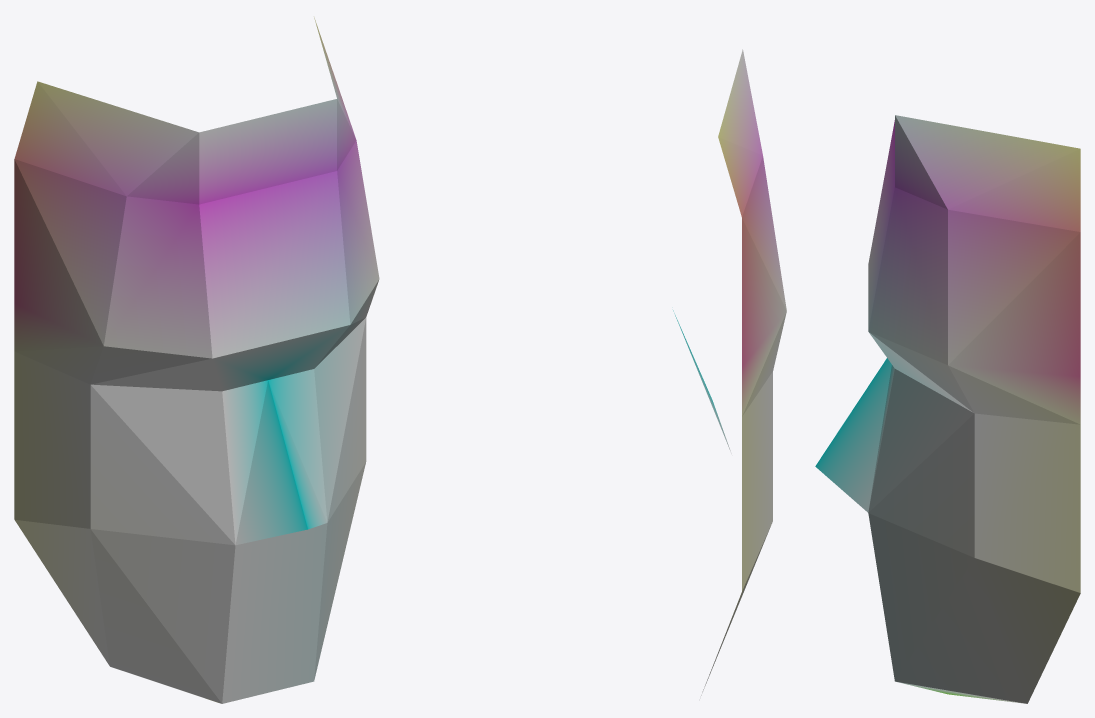
3 views of the same model, side by side, from view 1: azimuth 30°, elevation 25°; view 2: azimuth 150°, elevation 25°; view 3: azimuth 270°, elevation 25° (orthographic). The views are drawn at different scales.
Visible parts, largest first — view 1: model_140A; view 2: model_140A; view 3: model_140A.
Boxes of the visible parts, <box> form: model_140A: <box>14,17,379,703</box>; model_140A: <box>673,49,786,695</box>; model_140A: <box>815,115,1080,703</box>.
Size of the model in its own units: 14 by 25 by 10.
